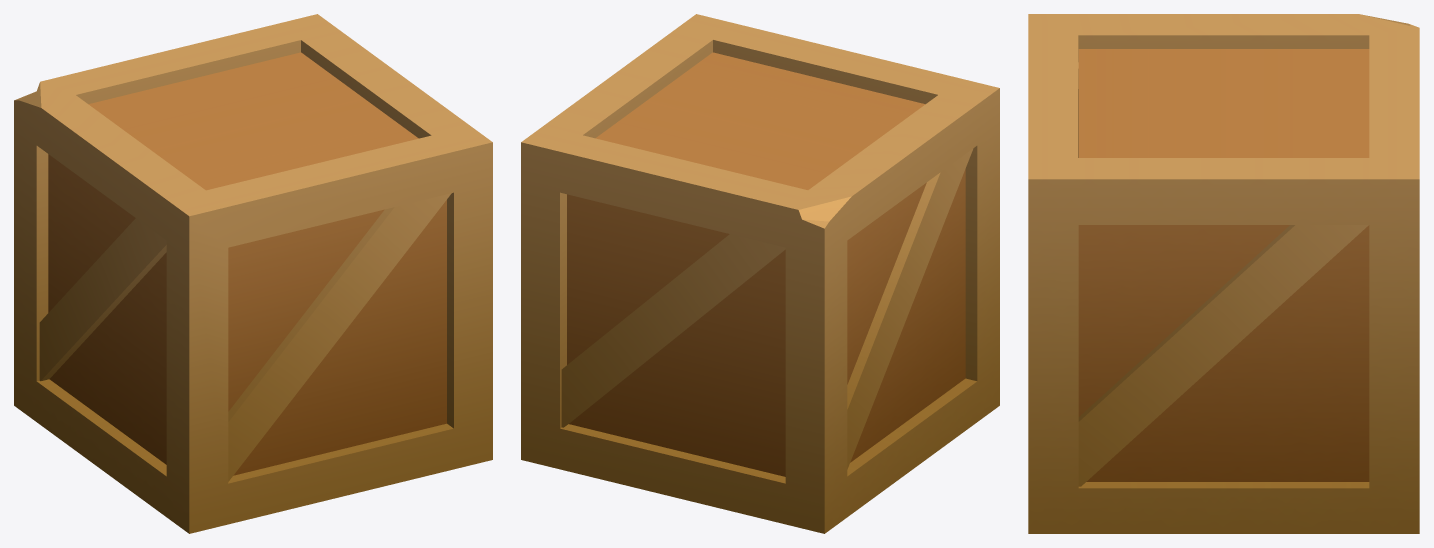
Rendered from Crate_B.fbx.
3 renders of one model, left to right at view 1: azimuth 30°, elevation 25°; view 2: azimuth 150°, elevation 25°; view 3: azimuth 270°, elevation 25°, orthographic. The views are drawn at different scales.
Parts seen in each view (by area): view 1: Crate_B; view 2: Crate_B; view 3: Crate_B.
Boxes of the visible parts, bbox=[...] form: Crate_B: bbox=[14, 14, 492, 533]; Crate_B: bbox=[521, 14, 999, 533]; Crate_B: bbox=[1028, 14, 1419, 533].
Size of the model in its own units: 100 by 100 by 100.
